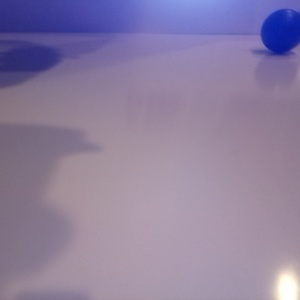dead_ball: (261, 9, 300, 53)
